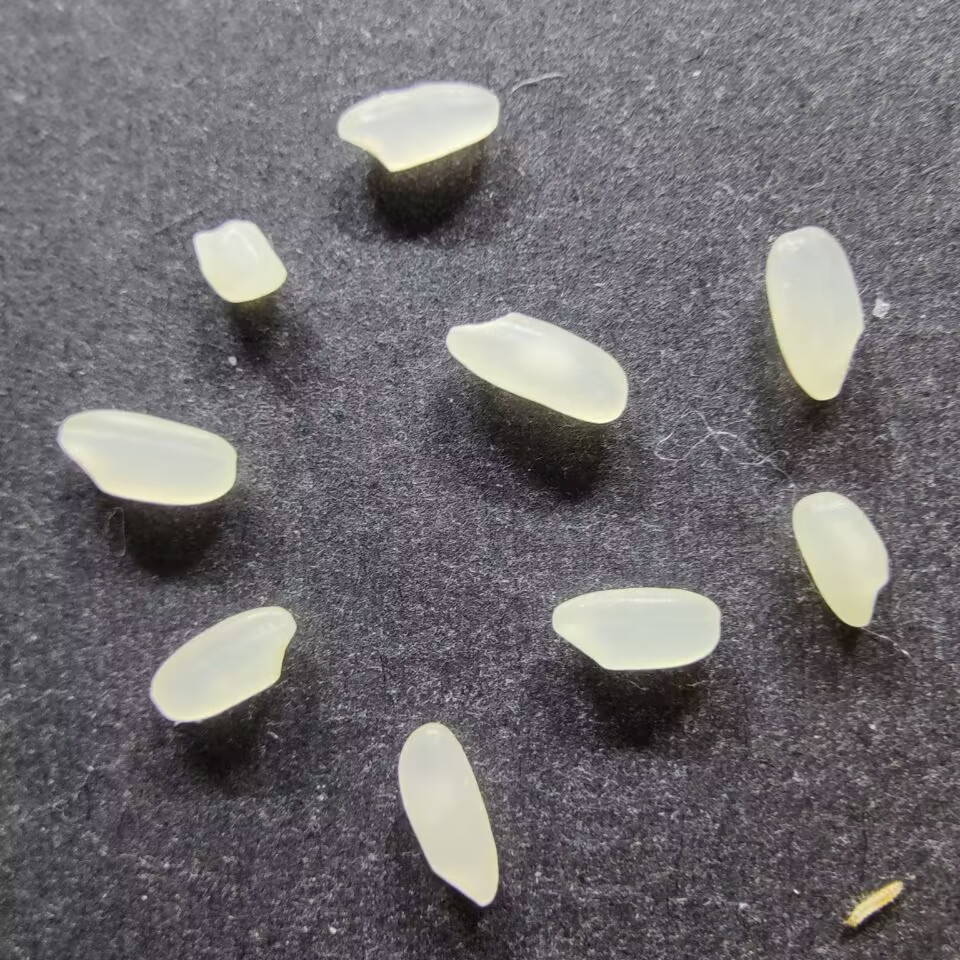broken: (191, 215, 289, 306)
others: (842, 878, 908, 931)
rice: (443, 310, 630, 424), (395, 720, 500, 907), (56, 407, 239, 506), (764, 224, 865, 403), (147, 604, 297, 724), (335, 80, 499, 173), (549, 585, 722, 672), (790, 490, 892, 629)
